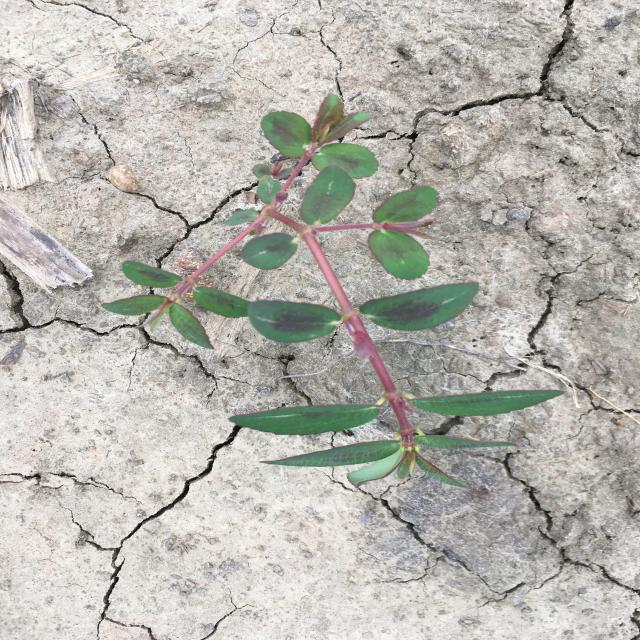SpottedSpurge: (101, 92, 567, 490)
